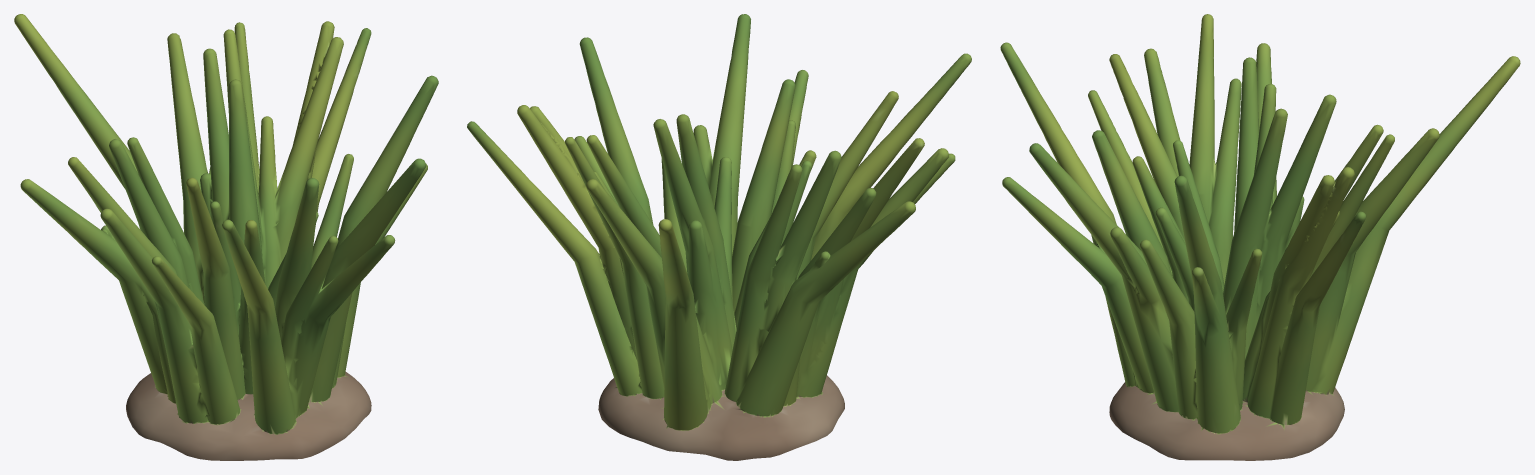
The model's file is grass-turf0.glb.
The picture shows the model from 3 angles, left to right: view 1: azimuth 30°, elevation 25°; view 2: azimuth 150°, elevation 25°; view 3: azimuth 270°, elevation 25°; orthographic projection.
Visible parts, largest first — view 1: body; view 2: body; view 3: body.
Boxes of the visible parts, bbox=[...] form: body: bbox=[14, 14, 438, 460]; body: bbox=[467, 14, 971, 460]; body: bbox=[1000, 14, 1520, 460].
Bounding box in the file's own units: 0.5573 × 0.4402 × 0.6305.
